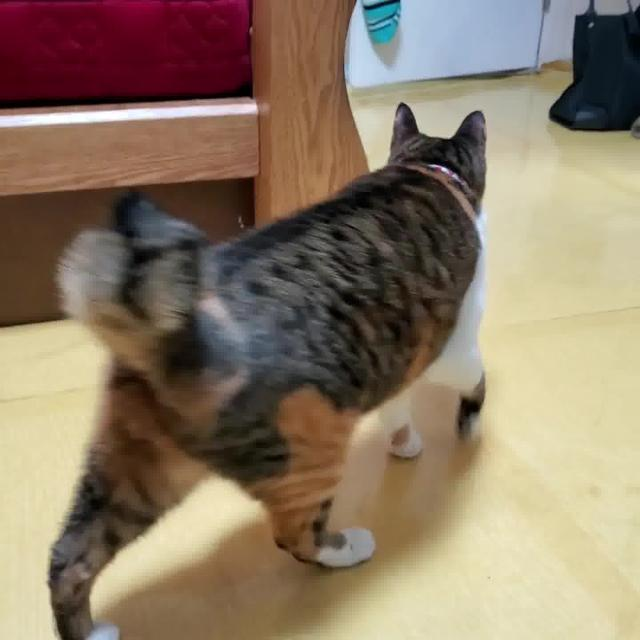cat: (43, 95, 502, 640)
